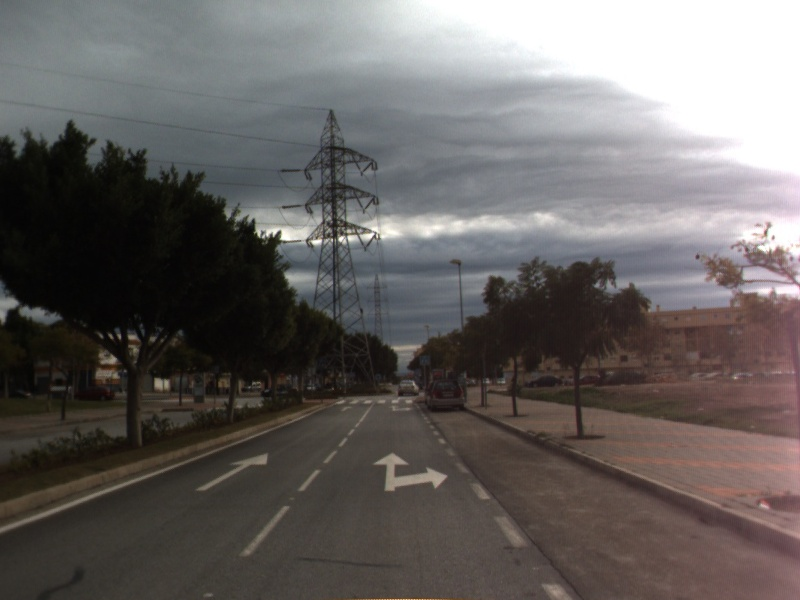STRAIGHT: (193, 450, 271, 493), (339, 404, 355, 413)
STRAIGHT_RIGHT: (370, 450, 450, 493), (387, 403, 415, 413)
